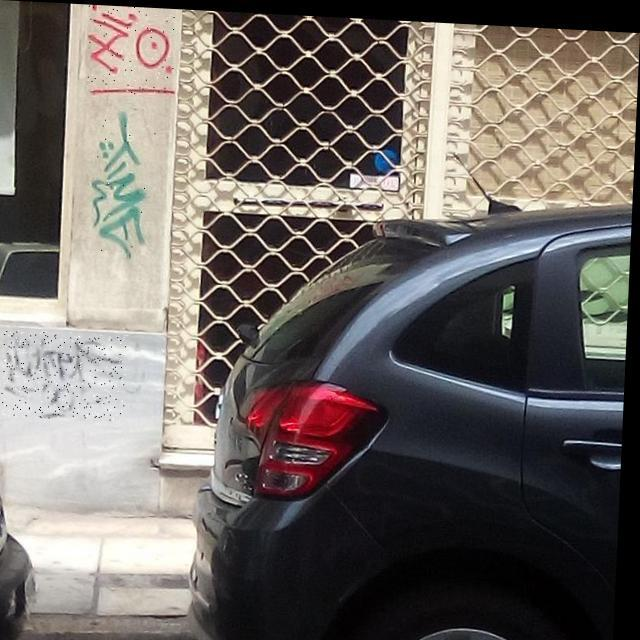-: (5, 329, 130, 421), (90, 107, 158, 258), (85, 4, 176, 96)
